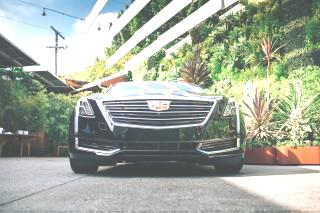cadillac: (144, 98, 177, 115)
